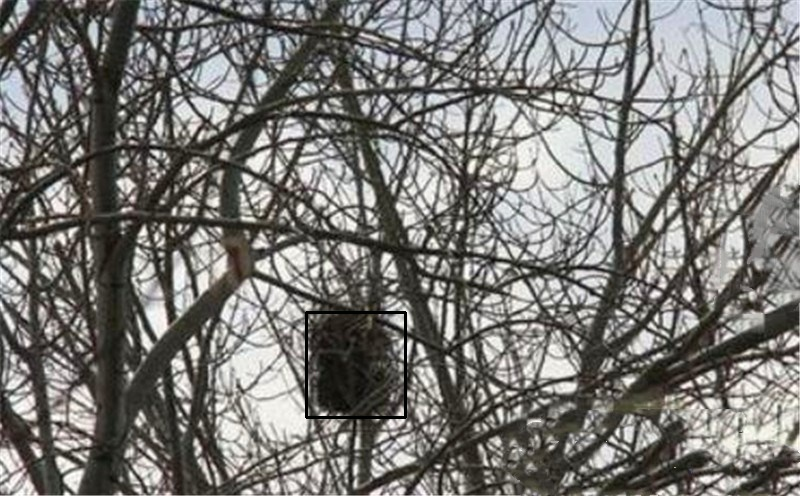bird-nest: (299, 302, 404, 424)
